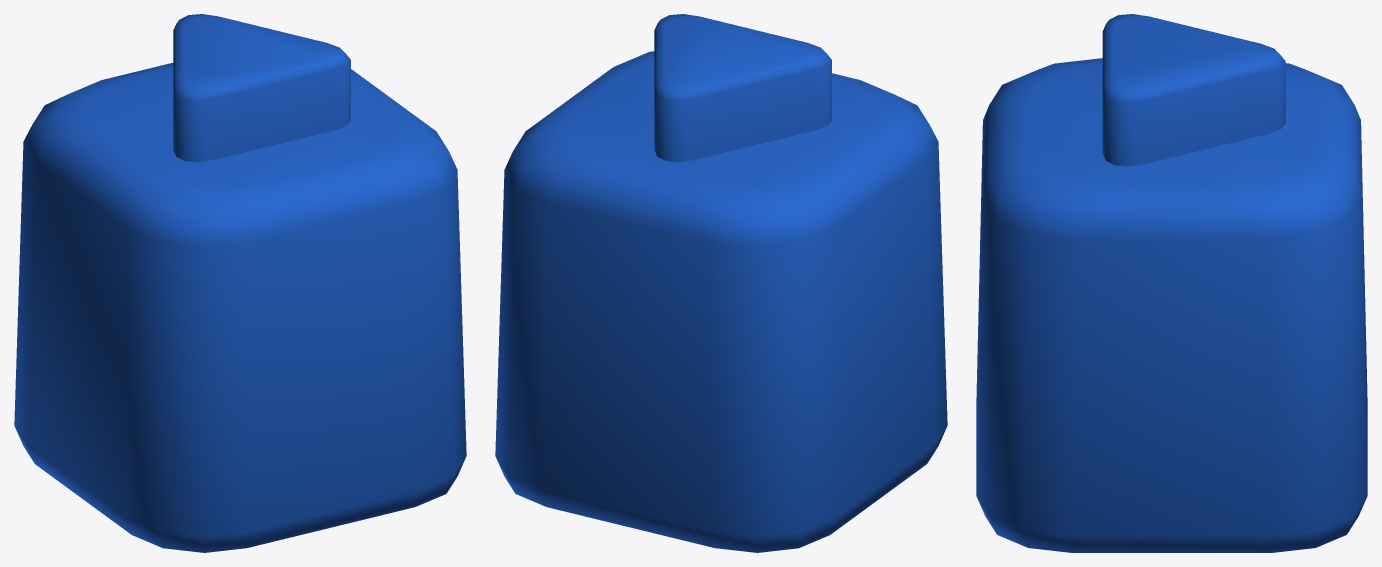
Rendered from block_triangle.fbx.
The picture shows the model from 3 angles, left to right: view 1: azimuth 30°, elevation 25°; view 2: azimuth 150°, elevation 25°; view 3: azimuth 270°, elevation 25°; orthographic projection. The views are drawn at different scales.
Visible parts, largest first — view 1: block_triangle; view 2: block_triangle; view 3: block_triangle.
Part boxes in pixels (x1,y1,x2,y2): block_triangle: (14,14,466,552); block_triangle: (495,14,947,552); block_triangle: (976,14,1367,552).
Size of the model in its own units: 98.38 by 98.38 by 120.
